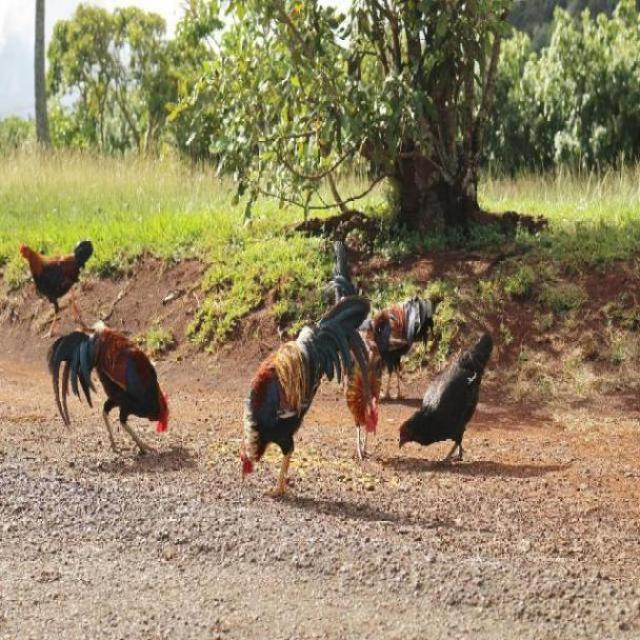Chicken: (233, 290, 369, 502), (41, 320, 173, 458), (399, 327, 490, 477), (18, 232, 96, 339), (369, 286, 440, 401), (347, 302, 387, 464), (325, 228, 358, 303)
